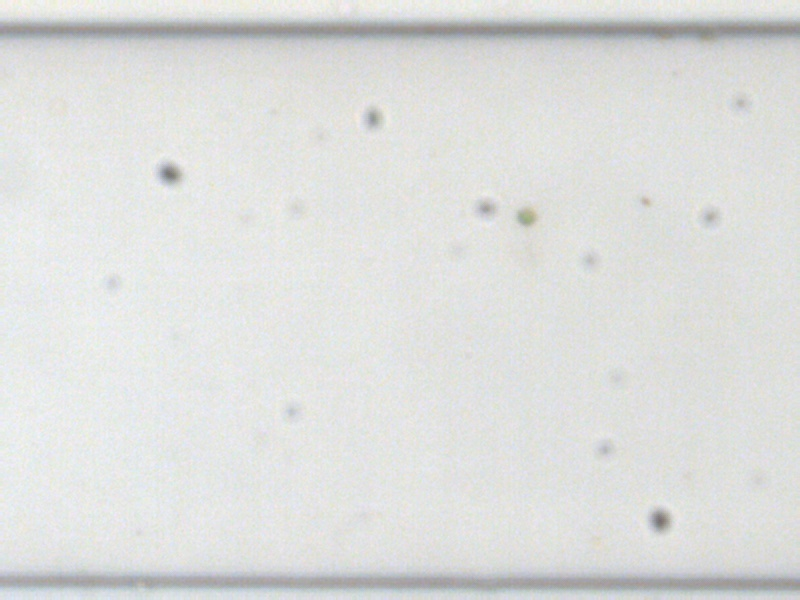Chlorella: (516, 206, 534, 226)
